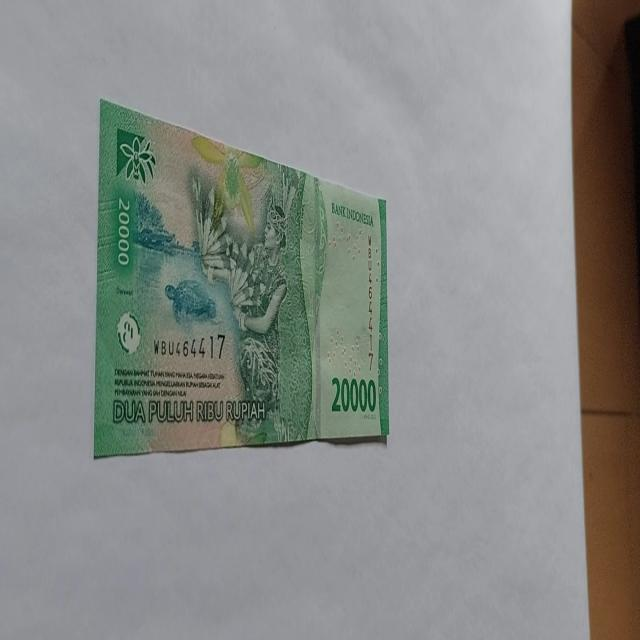dua puluh ribu rupiah: (93, 97, 390, 459)
